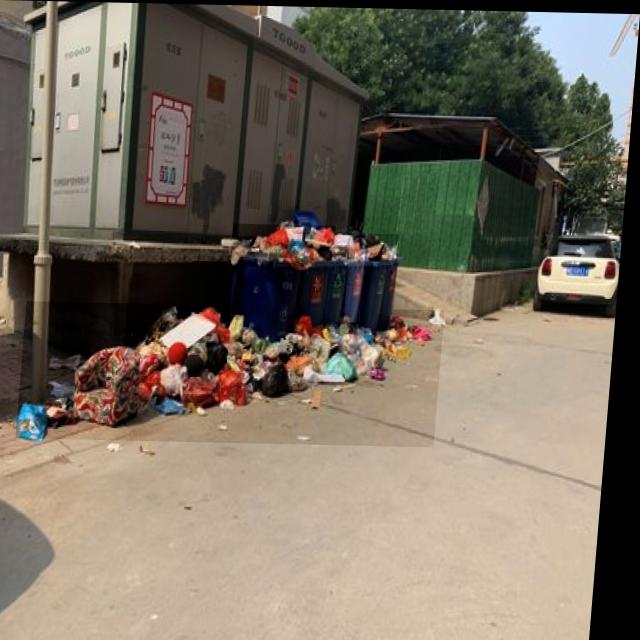garbage: (23, 301, 450, 445)
overflow: (230, 223, 307, 333), (298, 224, 341, 324), (366, 232, 404, 330), (328, 230, 357, 321), (349, 235, 370, 321)
